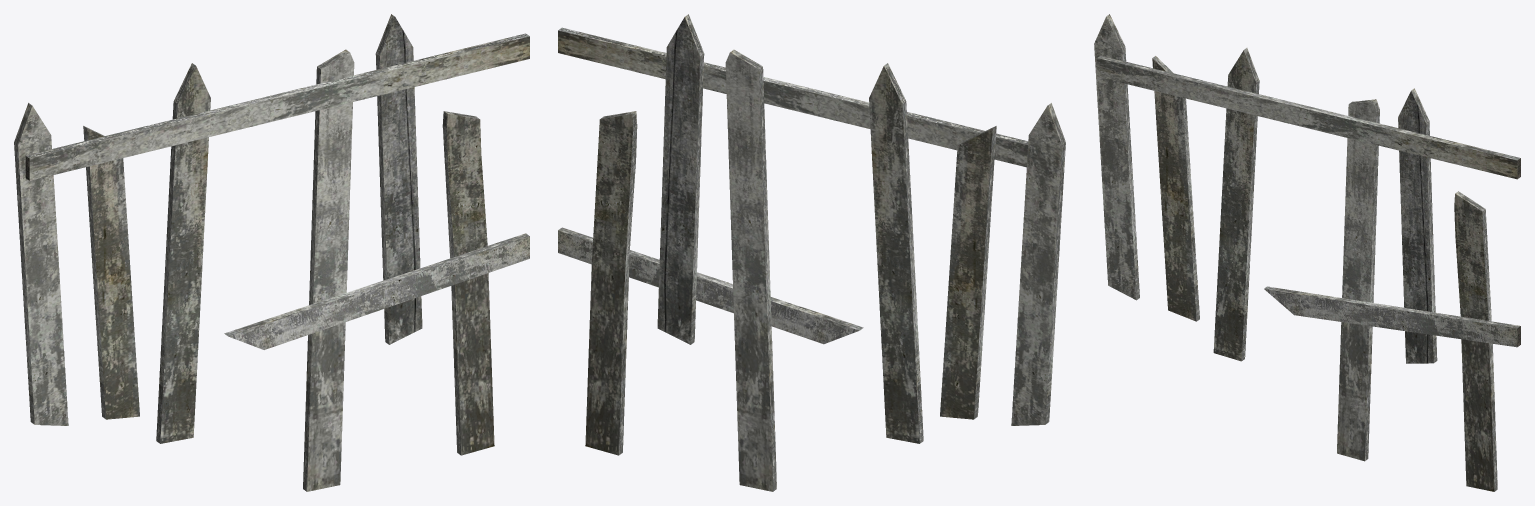
File: Mid.FBX
3 views of the same model, side by side, from view 1: azimuth 30°, elevation 25°; view 2: azimuth 150°, elevation 25°; view 3: azimuth 330°, elevation 25° (orthographic). The views are drawn at different scales.
Parts seen in each view (by area): view 1: FencePickBurntMid01:0; view 2: FencePickBurntMid01:0; view 3: FencePickBurntMid01:0.
Boxes of the visible parts, x1,y1,x2,y2 form: FencePickBurntMid01:0: [14, 14, 529, 491]; FencePickBurntMid01:0: [558, 14, 1065, 491]; FencePickBurntMid01:0: [1094, 14, 1520, 491].
Bounding box in the file's own units: 1.3 × 1.11 × 0.0357.
